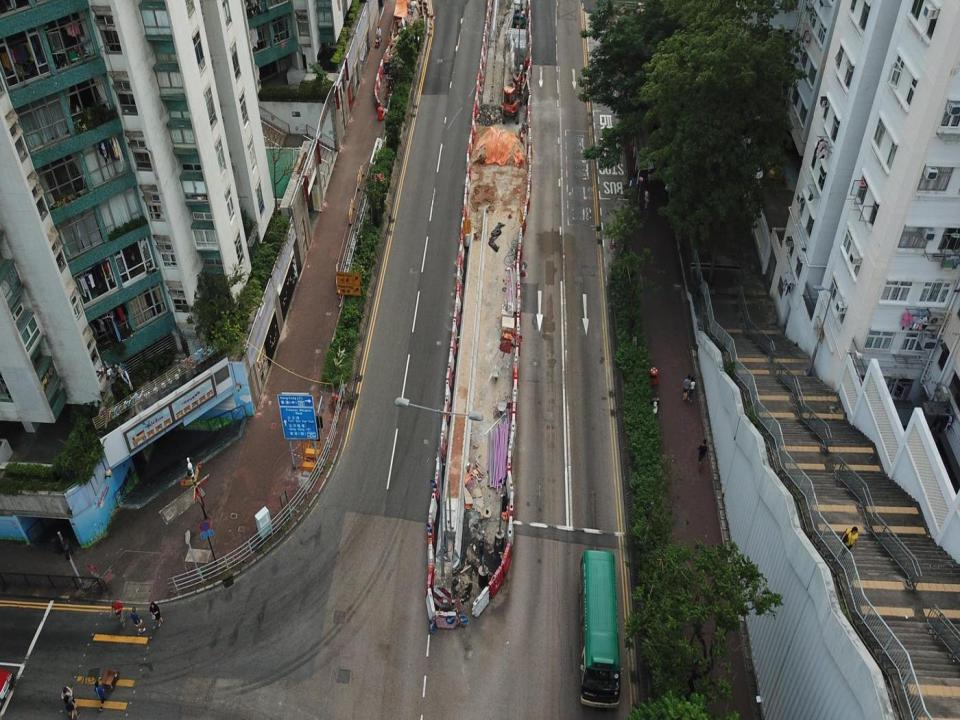bus: (580, 550, 624, 708)
car: (737, 133, 763, 189)
